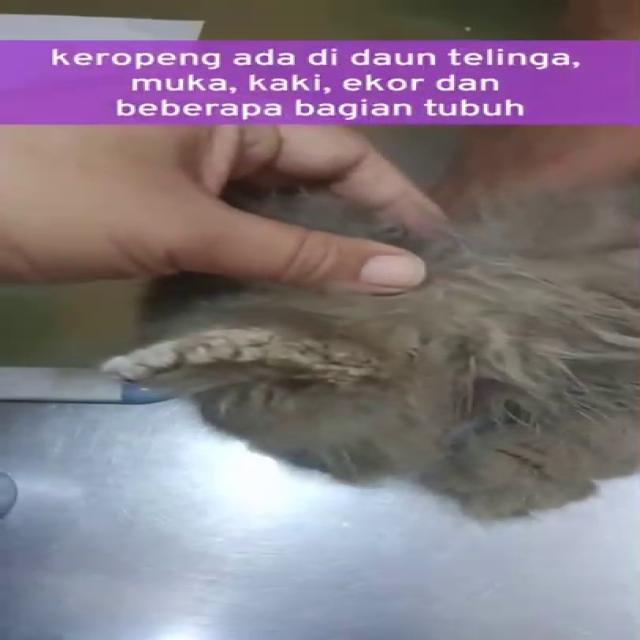ghe: (92, 330, 390, 417)
